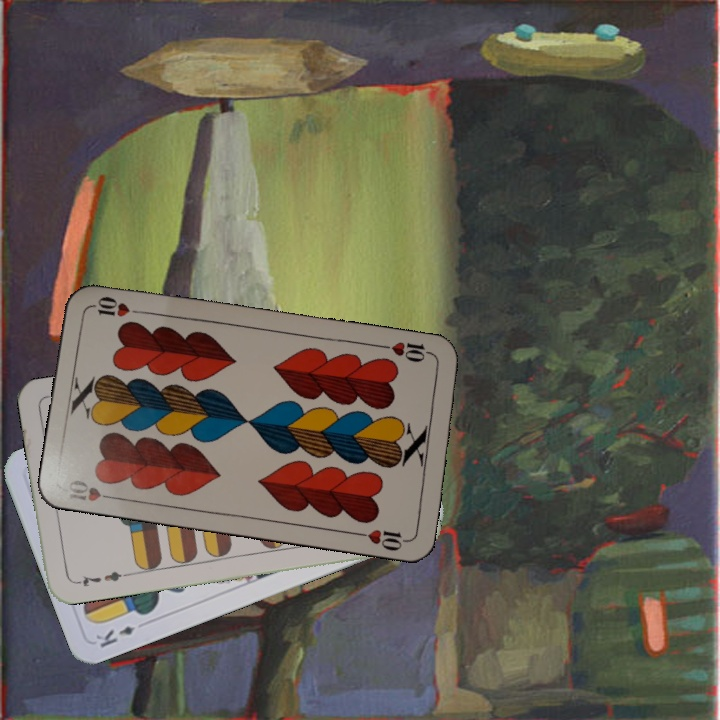E7: (70, 567, 129, 590)
EK: (91, 622, 137, 651)
H10: (64, 475, 121, 504), (377, 337, 436, 365)
